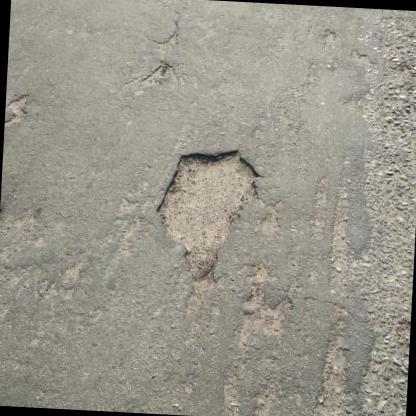pothole: (150, 142, 266, 281), (4, 92, 31, 128), (140, 61, 169, 88)
